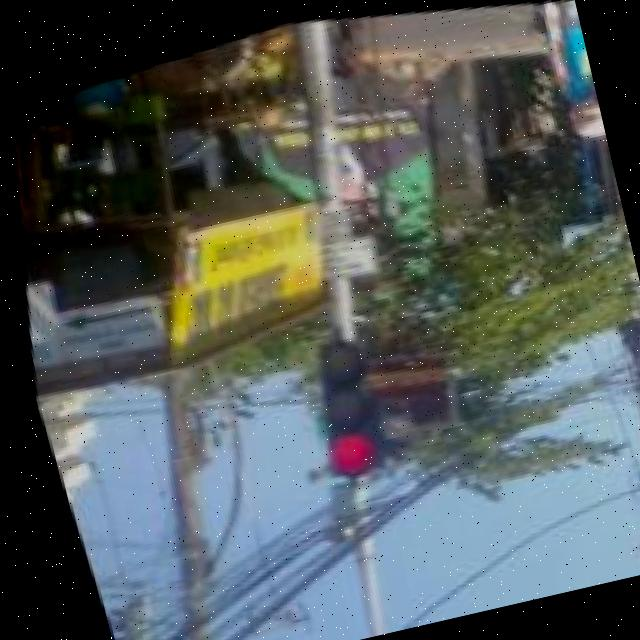red_light: (282, 316, 404, 484)
